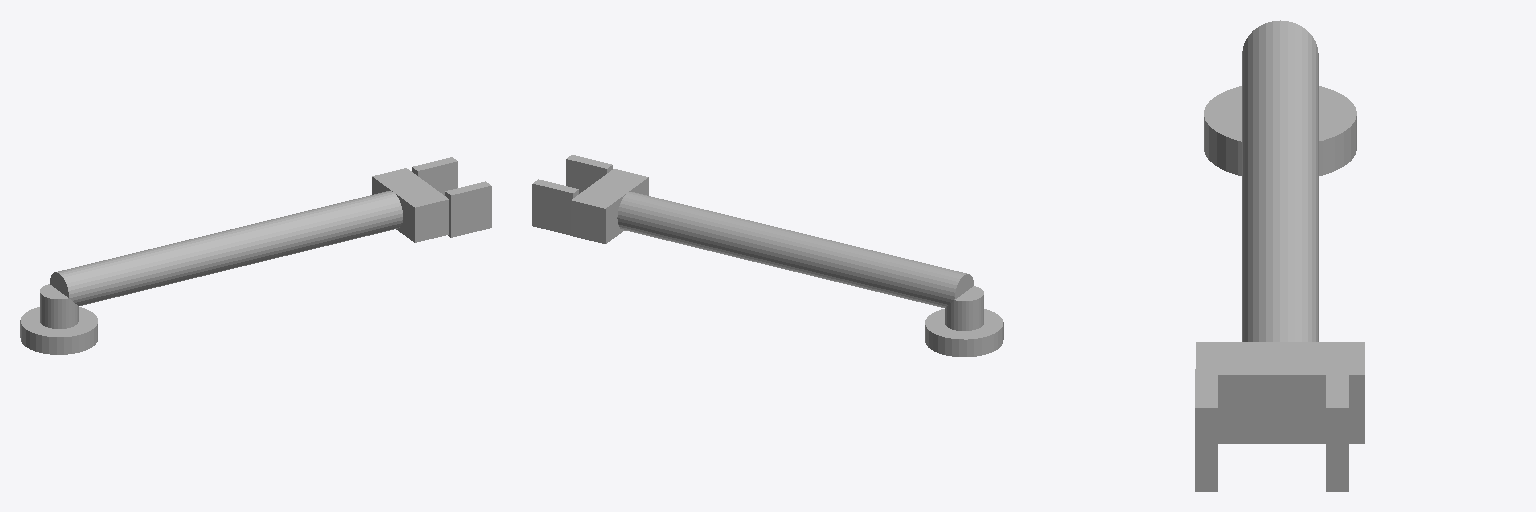
URDF robot description (arm):
<?xml version="1.0"?>
<robot name="arm">
  <self_collide>false</self_collide>
  <link name="world"/>
  <link name="base_link">
    <visual>
      <geometry>
        <cylinder length="0.05" radius="0.1"/>
      </geometry>
      <material name="silver">
        <color rgba="0.75 0.75 0.75 1"/>
      </material>
      <origin rpy="0 0 0" xyz="0 0 0.025"/>
    </visual>
    <collision>
      <geometry>
        <cylinder length="0.05" radius="0.1"/>
      </geometry>
      <origin rpy="0 0 0" xyz="0 0 0.025"/>
    </collision>
    <inertial>
      <mass value="0.5"/>
      <origin rpy="0 0 0" xyz="0 0 0.025"/>
      <inertia ixx="0.0027" iyy="0.0027" izz="0.005" ixy="0" ixz="0" iyz="0"/>
    </inertial>
  </link>
  <joint name="fixed" type="fixed">
    <parent link="world"/>
    <child link="base_link"/>
  </joint>
  <link name="torso">
    <visual>
      <geometry>
        <cylinder length="0.084" radius="0.05"/>
      </geometry>
      <material name="silver">
        <color rgba="0.75 0.75 0.75 1"/>
      </material>
      <origin rpy="0 0 0" xyz="0 0 0.042"/>
    </visual>
    <collision>
      <geometry>
        <cylinder length="0.084" radius="0.05"/>
      </geometry>
      <origin rpy="0 0 0" xyz="0 0 0.042"/>
    </collision>
    <inertial>
      <mass value="0.5"/>
      <origin rpy="0 0 0" xyz="0 0 0.042"/>
      <inertia ixx="0.02146" iyy="0.02146" izz="0.00125" ixy="0" ixz="0" iyz="0"/>
    </inertial>
  </link>
  <joint name="hip" type="continuous">
    <axis xyz="0 0 1"/>
    <parent link="base_link"/>
    <child link="torso"/>
    <origin rpy="0 0 0" xyz="0.0 0.0 0.05"/>
  </joint>
  <link name="upper_arm">
    <visual>
      <geometry>
        <cylinder length="0.5584" radius="0.05"/>
      </geometry>
      <material name="silver"/>
      <origin rpy="0 0 0" xyz="0 0 0.2792"/>
    </visual>
    <collision>
      <geometry>
        <cylinder length="0.5584" radius="0.05"/>
      </geometry>
      <origin rpy="0 0 0" xyz="0 0 0.2792"/>
    </collision>
    <inertial>
      <mass value="0.5"/>
      <origin rpy="0 0 0" xyz="0 0 0.2792"/>
      <inertia ixx="0.01396" iyy="0.01396" izz="0.00125" ixy="0" ixz="0" iyz="0"/>
    </inertial>
  </link>
  <joint name="shoulder" type="continuous">
    <axis xyz="0 1 0"/>
    <parent link="torso"/>
    <child link="upper_arm"/>
    <origin rpy="0 1.5708 0" xyz="0.0 0 0.084"/>
  </joint>
  <link name="middle_arm">
    <visual>
      <geometry>
        <cylinder length="0.3673" radius="0.05"/>
      </geometry>
      <material name="silver"/>
      <origin rpy="0 0 0" xyz="0 0 0.18365"/>
    </visual>
    <collision>
      <geometry>
        <cylinder length="0.3673" radius="0.05"/>
      </geometry>
      <origin rpy="0 0 0" xyz="0 0 0.18365"/>
    </collision>
    <inertial>
      <mass value="0.5"/>
      <origin rpy="0 0 0" xyz="0 0 0.18365"/>
      <inertia ixx="0.01396" iyy="0.01396" izz="0.00125" ixy="0" ixz="0" iyz="0"/>
    </inertial>
  </link>
  <joint name="elbow" type="continuous">
    <axis xyz="0 1 0"/>
    <parent link="upper_arm"/>
    <child link="middle_arm"/>
    <origin rpy="0 0 0" xyz="0.0 0 0.5584"/>
  </joint>

  <link name="lower_arm">
    <visual>
      <geometry>
        <cylinder length="0.064" radius="0.05"/>
      </geometry>
      <material name="silver"/>
      <origin rpy="0 0 0" xyz="0 0 0.032"/>
    </visual>
    <collision>
      <geometry>
        <cylinder length="0.064" radius="0.05"/>
      </geometry>
      <origin rpy="0 0 0" xyz="0 0 0.032"/>
    </collision>
    <inertial>
      <mass value="0.5"/>
      <inertia ixx="0.00042" iyy="0.00042" izz="0.00042" ixy="0" ixz="0" iyz="0"/>
    </inertial>
  </link>
  <joint name="lower_elbow" type="continuous">
    <axis xyz="0 1 0"/>
    <parent link="middle_arm"/>
    <child link="lower_arm"/>
    <origin rpy="0 0 0" xyz="0.0 0.0 0.3673"/>
  </joint>

  <link name="hand">
    <visual>
      <geometry>
        <box size="0.1 0.22 0.1025"/>
      </geometry>
      <material name="silver"/>
    </visual>
    <collision>
      <geometry>
        <box size="0.1 0.22 0.1025"/>
      </geometry>
    </collision>
    <inertial>
      <mass value="0.25"/>
      <inertia ixx="0.00042" iyy="0.00042" izz="0.00042" ixy="0" ixz="0" iyz="0"/>
    </inertial>
  </link>
  <joint name="wrist" type="continuous">
    <axis xyz="0 0 1"/>
    <parent link="lower_arm"/>
    <child link="hand"/>
    <origin rpy="0 0 0" xyz="0.0 0.0 0.11525"/>
  </joint>
  <link name="grip_finger">
    <visual>
      <geometry>
        <box size="0.03 0.12 0.12"/>
      </geometry>
      <material name="silver"/>
    </visual>
    <collision>
      <geometry>
        <box size="0.22 0.1 0.22"/>
      </geometry>
    </collision>
    <inertial>
      <mass value="0.25"/>
      <inertia ixx="0.00042" iyy="0.00042" izz="0.00042" ixy="0" ixz="0" iyz="0"/>
    </inertial>
  </link>
  <joint name="grip" type="prismatic">
    <parent link="hand"/>
    <child link="grip_finger"/>
    <limit effort="1000.0" lower="-0.175" upper="0" velocity="0.5"/>
    <origin rpy="0 0 1.57075" xyz="0.0 0.075 0.11525"/>
  </joint>
  <link name="grip_fixed">
    <visual>
      <geometry>
        <box size="0.03 0.12 0.12"/>
      </geometry>
      <material name="silver"/>
    </visual>
    <collision>
      <geometry>
        <box size="0.22 0.1 0.22"/>
      </geometry>
    </collision>
    <inertial>
      <mass value="0.1"/>
      <inertia ixx="5.1458e-5" iyy="5.1458e-5" izz="6.125e-5" ixy="0" ixz="0" iyz="0"/>
    </inertial>
  </link>
  <joint name="grip_base_to_fixed" type="fixed">
    <parent link="hand"/>
    <child link="grip_fixed"/>
    <origin rpy="0 0 1.57075" xyz="0.0 -0.096 0.11525"/>
  </joint>
  <transmission name="tran0">
    <type>transmission_interface/SimpleTransmission</type>
    <joint name="hip">
      <hardwareInterface>PositionJointInterface</hardwareInterface>
    </joint>
    <actuator name="motor0">
      <hardwareInterface>PositionJointInterface</hardwareInterface>
      <mechanicalReduction>1</mechanicalReduction>
    </actuator>
  </transmission>
  <transmission name="tran1">
    <type>transmission_interface/SimpleTransmission</type>
    <joint name="shoulder">
      <hardwareInterface>PositionJointInterface</hardwareInterface>
    </joint>
    <actuator name="motor1">
      <hardwareInterface>PositionJointInterface</hardwareInterface>
      <mechanicalReduction>1</mechanicalReduction>
    </actuator>
  </transmission>
  <transmission name="tran2">
    <type>transmission_interface/SimpleTransmission</type>
    <joint name="elbow">
      <hardwareInterface>PositionJointInterface</hardwareInterface>
    </joint>
    <actuator name="motor2">
      <hardwareInterface>PositionJointInterface</hardwareInterface>
      <mechanicalReduction>1</mechanicalReduction>
    </actuator>
  </transmission>
  <transmission name="tran3">
    <type>transmission_interface/SimpleTransmission</type>
    <joint name="wrist">
      <hardwareInterface>PositionJointInterface</hardwareInterface>
    </joint>
    <actuator name="motor3">
      <hardwareInterface>PositionJointInterface</hardwareInterface>
      <mechanicalReduction>1</mechanicalReduction>
    </actuator>
  </transmission>
  <transmission name="tran4">
    <type>transmission_interface/SimpleTransmission</type>
    <joint name="grip">
      <hardwareInterface>PositionJointInterface</hardwareInterface>
    </joint>
    <actuator name="motor4">
      <hardwareInterface>PositionJointInterface</hardwareInterface>
      <mechanicalReduction>1</mechanicalReduction>
    </actuator>
  </transmission>
  <transmission name="tran5">
    <type>transmission_interface/SimpleTransmission</type>
    <joint name="lower_elbow">
      <hardwareInterface>PositionJointInterface</hardwareInterface>
    </joint>
    <actuator name="motor5">
      <hardwareInterface>PositionJointInterface</hardwareInterface>
      <mechanicalReduction>1</mechanicalReduction>
    </actuator>
  </transmission>
  <gazebo>
    <plugin name="control" filename="libgazebo_ros_control.so"/>
  </gazebo>
  <gazebo>
    <plugin name="joint_state_publisher" filename="libgazebo_ros_joint_state_publisher.so">
      <jointName>hip, shoulder, elbow, lower_elbow, wrist, grip</jointName>
    </plugin>
  </gazebo>
</robot>

--- Render facts (derived) ---
3 views of the same robot in one strip: view 1: azimuth 30°, elevation 25°; view 2: azimuth 150°, elevation 25°; view 3: azimuth 270°, elevation 25° (orthographic).
Robot: arm — 9 links, 8 joints (5 continuous, 1 prismatic, 2 fixed); root link world; default pose: every joint at zero.
Visible links, largest first — view 1: upper_arm, middle_arm, hand, base_link, grip_fixed, torso, grip_finger, lower_arm; view 2: upper_arm, middle_arm, hand, base_link, grip_finger, torso, grip_fixed, lower_arm; view 3: upper_arm, hand, middle_arm, base_link, grip_finger, grip_fixed, lower_arm.
Link boxes in pixels (bbox=[...]): upper_arm: bbox=[50, 226, 257, 305]; middle_arm: bbox=[246, 196, 381, 263]; hand: bbox=[372, 168, 448, 242]; base_link: bbox=[20, 307, 97, 354]; grip_fixed: bbox=[445, 181, 491, 237]; torso: bbox=[40, 284, 78, 328]; grip_finger: bbox=[412, 157, 457, 195]; lower_arm: bbox=[370, 191, 402, 233]; upper_arm: bbox=[764, 228, 973, 307]; middle_arm: bbox=[639, 197, 777, 264]; hand: bbox=[571, 169, 648, 243]; base_link: bbox=[925, 309, 1003, 356]; grip_finger: bbox=[532, 179, 578, 235]; torso: bbox=[945, 286, 983, 330]; grip_fixed: bbox=[566, 155, 612, 193]; lower_arm: bbox=[617, 192, 650, 234]; upper_arm: bbox=[1242, 20, 1318, 233]; hand: bbox=[1196, 342, 1364, 443]; middle_arm: bbox=[1242, 202, 1318, 341]; base_link: bbox=[1204, 86, 1356, 175]; grip_finger: bbox=[1326, 369, 1348, 491]; grip_fixed: bbox=[1195, 369, 1217, 491]; lower_arm: bbox=[1245, 321, 1314, 341].
Size in the robot's own frame: 1.32 by 0.221 by 0.194 metres.
Geometry: primitives only (box / cylinder / sphere), no mesh files.